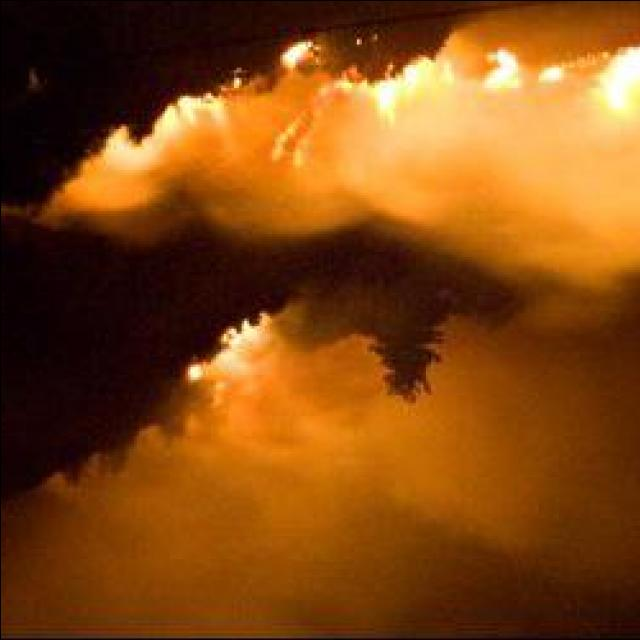fire: (597, 49, 640, 123), (372, 76, 428, 120), (479, 46, 522, 92), (184, 358, 204, 388)
smoke: (265, 346, 385, 484), (60, 130, 186, 218), (529, 174, 629, 280), (376, 127, 481, 227), (197, 107, 276, 219)
